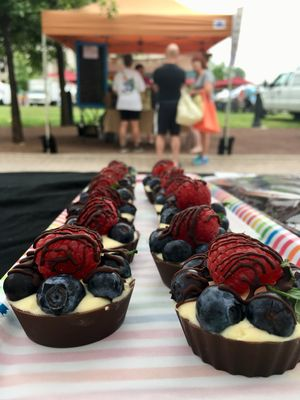sandwich: (176, 85, 204, 127)
